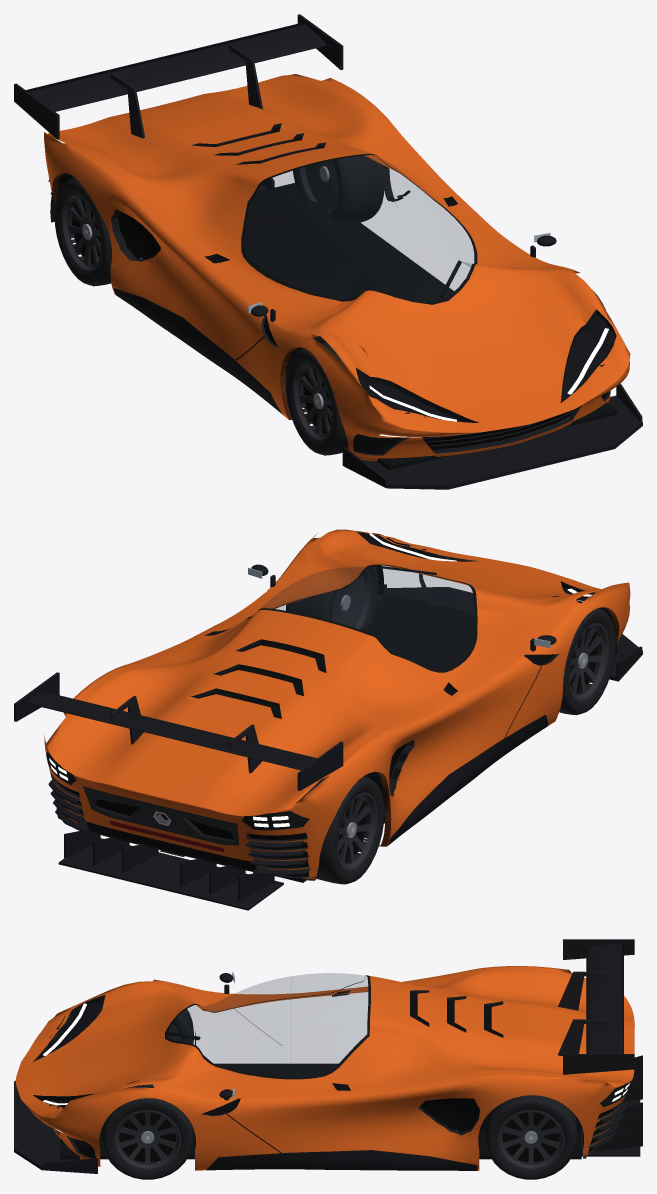
Rendered from car_gt2_orange.glb.
3 views of the same model, one above another, from view 1: azimuth 30°, elevation 25°; view 2: azimuth 150°, elevation 25°; view 3: azimuth 270°, elevation 25° (orthographic). The views are drawn at different scales.
Parts seen in each view (by area): view 1: body, wheel_rr, wheel_fl, wheel_rl; view 2: body, wheel_rl, wheel_fl, wheel_fr; view 3: body, wheel_rr, wheel_fr, wheel_fl.
Part boxes in pixels (x1=…): body: x1=14, y1=14, x2=642, y2=489; wheel_rr: x1=293, y1=155, x2=384, y2=222; wheel_fl: x1=285, y1=342, x2=348, y2=455; wheel_rl: x1=54, y1=178, x2=112, y2=286; body: x1=14, y1=529, x2=642, y2=910; wheel_rl: x1=300, y1=775, x2=384, y2=884; wheel_fl: x1=559, y1=602, x2=615, y2=715; wheel_fr: x1=286, y1=566, x2=378, y2=629; body: x1=14, y1=939, x2=642, y2=1173; wheel_rr: x1=485, y1=1095, x2=577, y2=1179; wheel_fr: x1=101, y1=1084, x2=193, y2=1179; wheel_fl: x1=167, y1=1009, x2=193, y2=1043.
Bounding box in the file's own units: 2.16 × 1.11 × 4.67.
